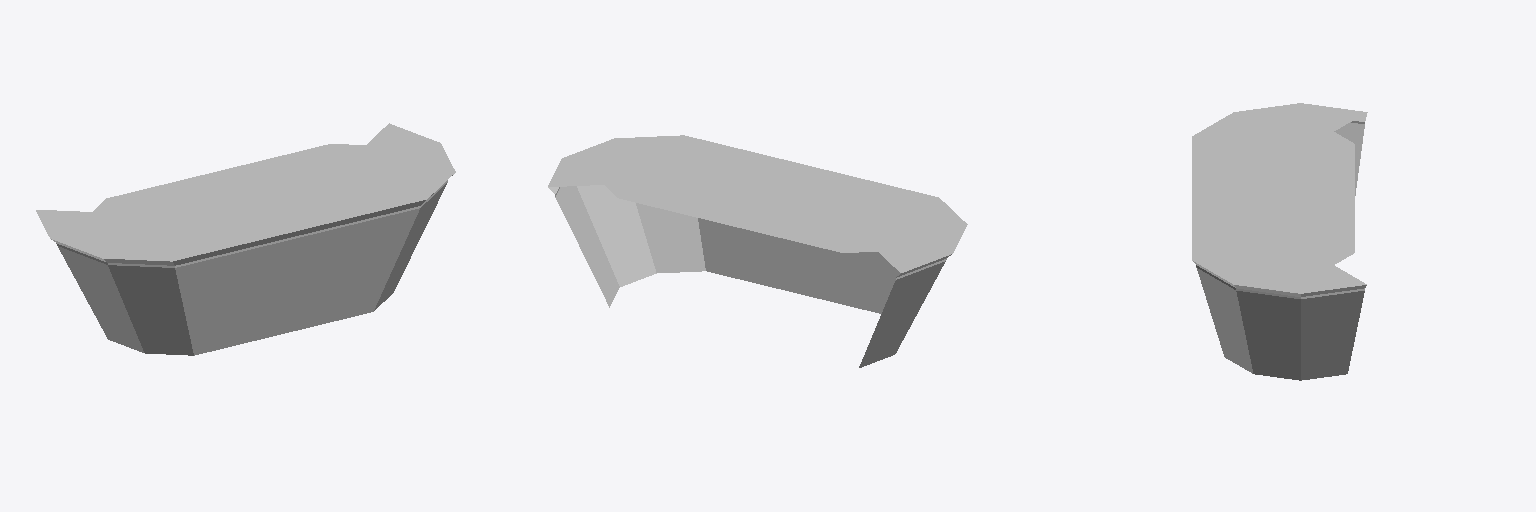
File: sol.obj
3 views of the same model, side by side, from view 1: azimuth 30°, elevation 25°; view 2: azimuth 150°, elevation 25°; view 3: azimuth 270°, elevation 25° (orthographic).
Size of the model in its own units: 12.3 by 3.46 by 4.77.